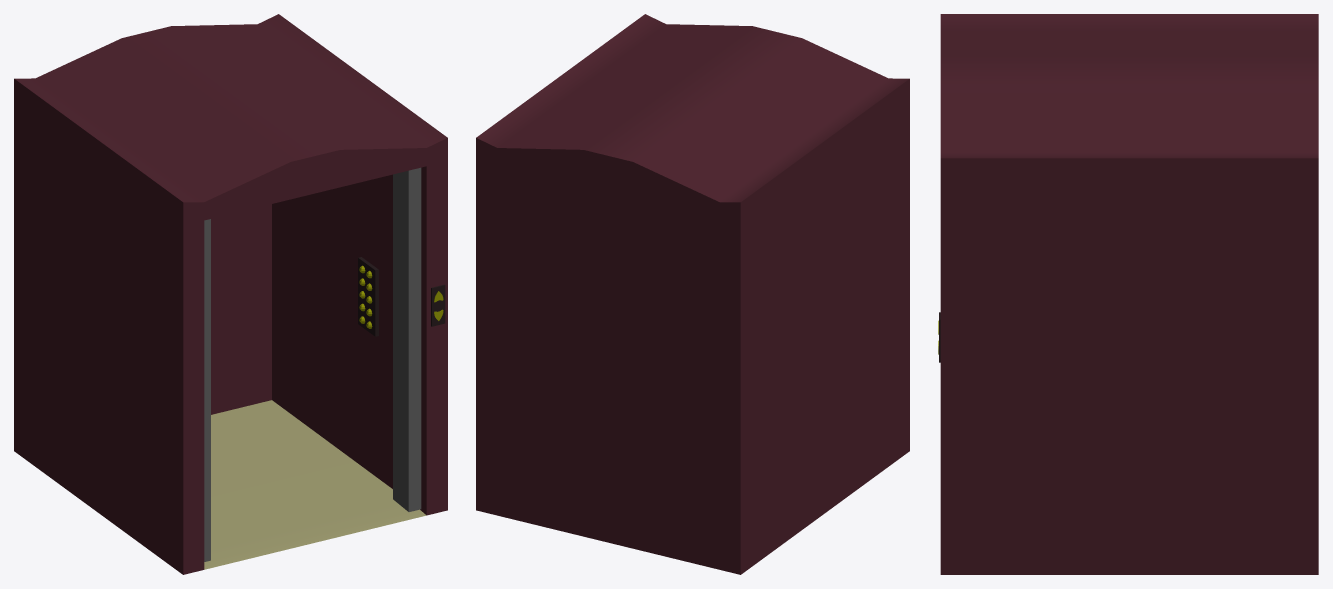
The model's file is Lift.fbx.
3 renders of one model, left to right at view 1: azimuth 30°, elevation 25°; view 2: azimuth 150°, elevation 25°; view 3: azimuth 270°, elevation 25°, orthographic. The views are drawn at different scales.
Parts seen in each view (by area): view 1: pCube6; view 2: pCube6; view 3: pCube6.
Part boxes in pixels (<box>): pCube6: <box>14,14,447,574</box>; pCube6: <box>476,14,909,574</box>; pCube6: <box>938,14,1318,574</box>.
Size of the model in its own units: 7.91 by 11.05 by 8.81.
